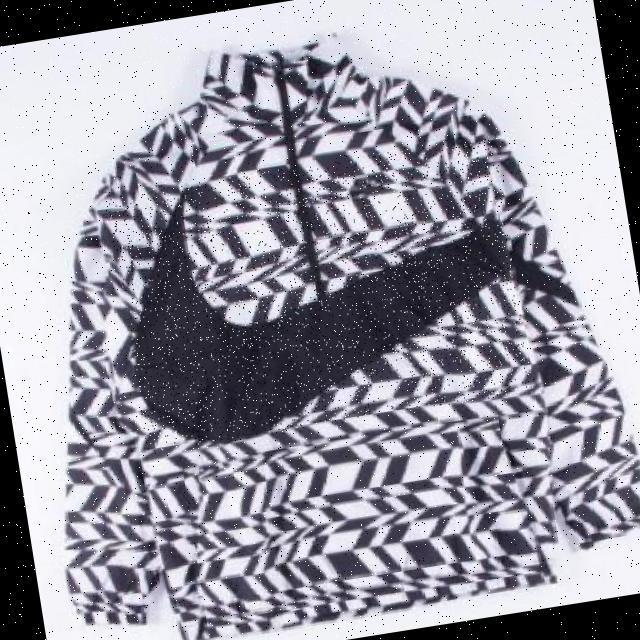Nike: (107, 136, 534, 453)
